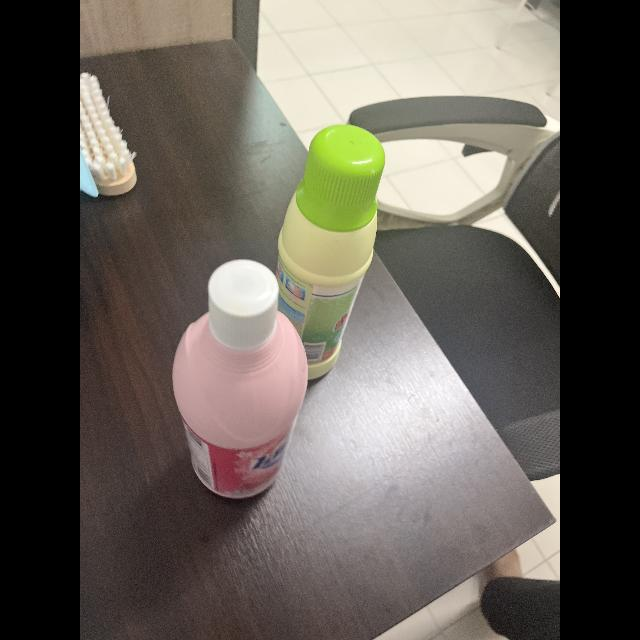chemical_plastic_bottle: (169, 258, 313, 504), (276, 122, 386, 382)
